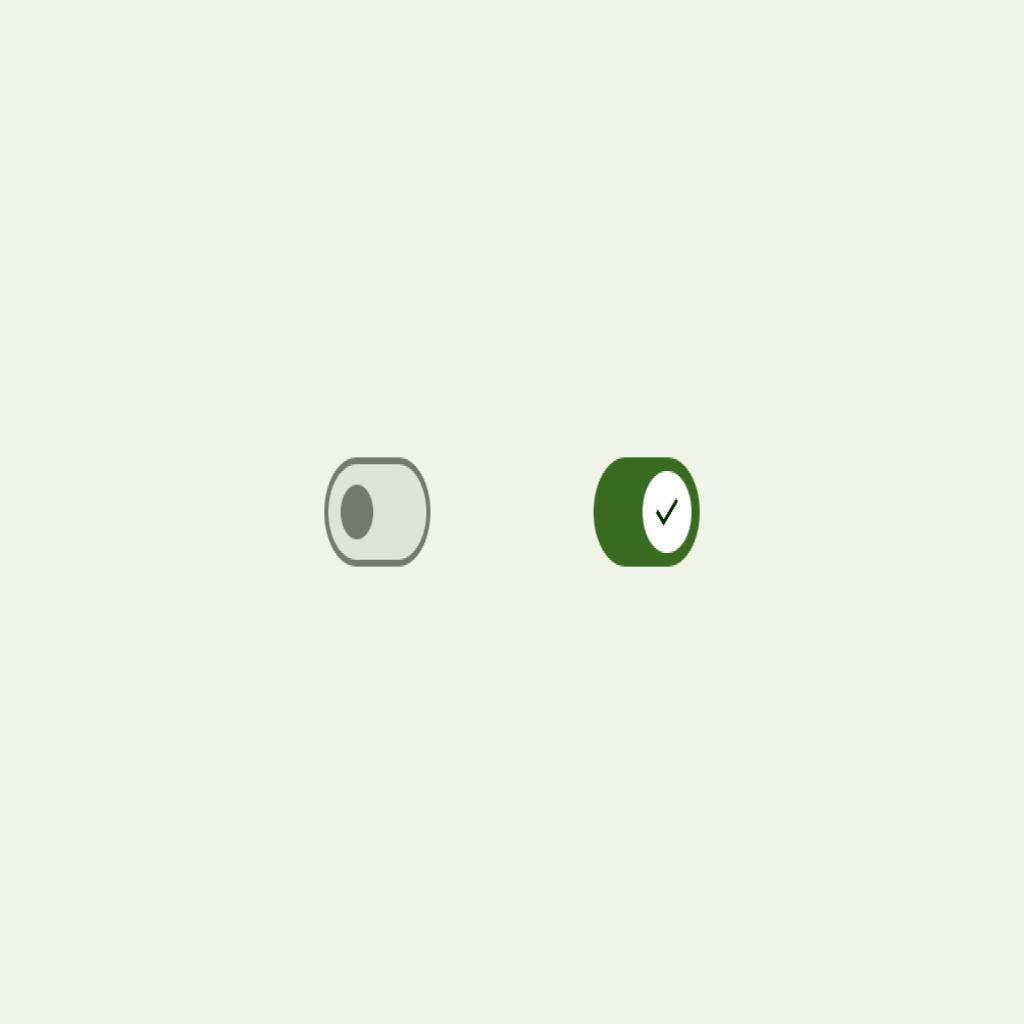switch: (324, 456, 433, 566), (593, 459, 702, 567)
